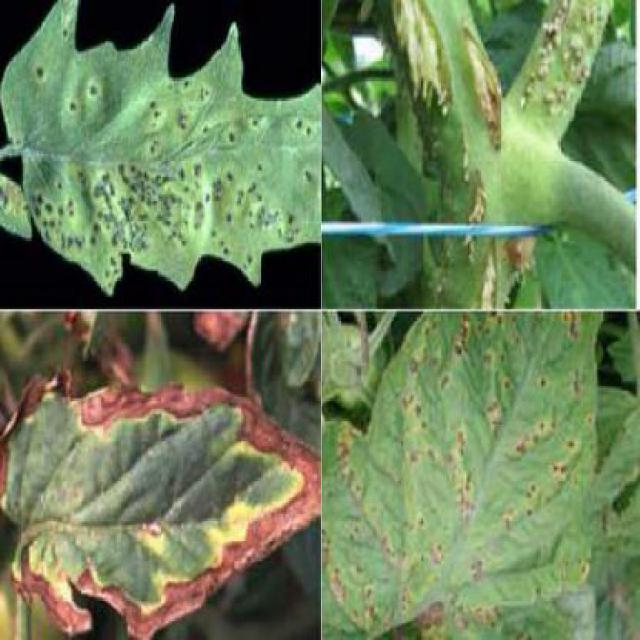Tomato late blight leaf: (12, 332, 312, 628), (335, 322, 603, 638), (6, 19, 319, 288)
